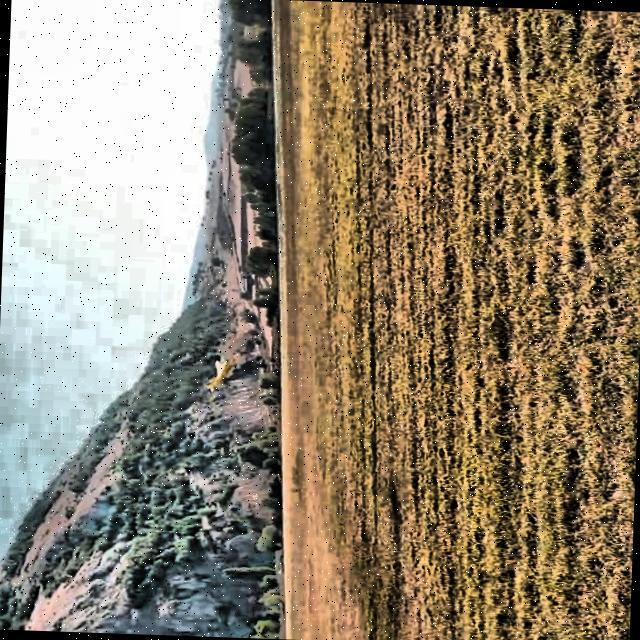iha: (193, 345, 249, 397)
